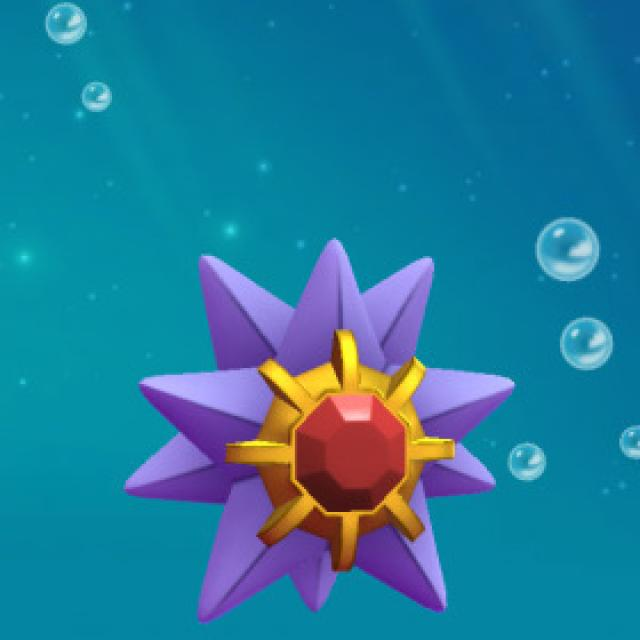Starmie: (200, 250, 454, 621)
